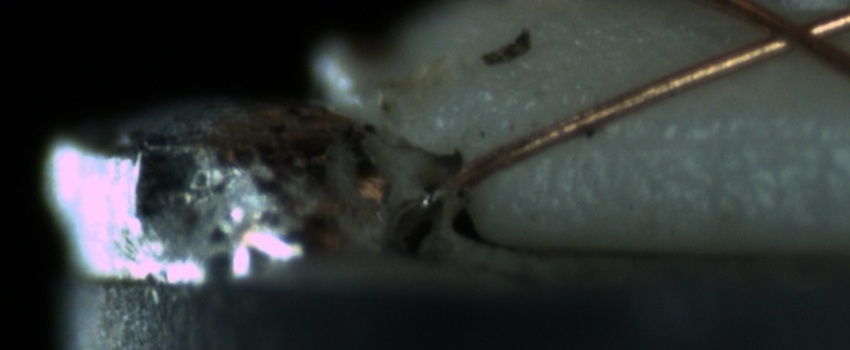CL: (736, 2, 842, 65)
DL: (568, 106, 844, 171)
